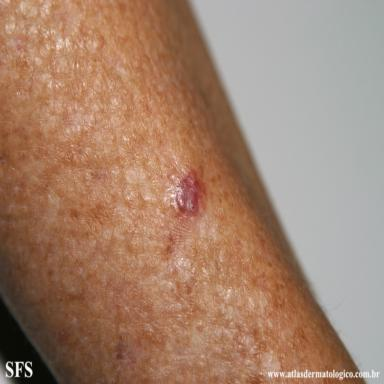basal-cell-carcinoma: (175, 162, 208, 217)
